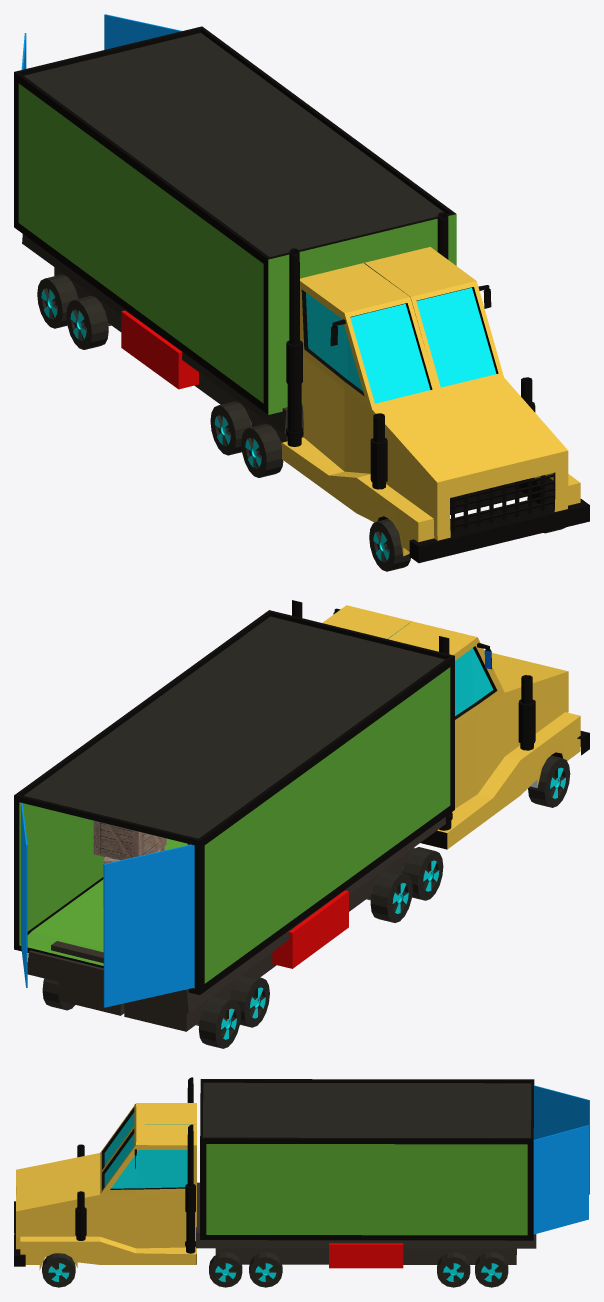
The model's file is Truck4.fbx.
3 renders of one model, top to bottom at view 1: azimuth 30°, elevation 25°; view 2: azimuth 150°, elevation 25°; view 3: azimuth 270°, elevation 25°, orthographic. The views are drawn at different scales.
Visible parts, largest first — view 1: TruckRare_2.002, Truck Type 6, Plane.016, Wheel_Rare1.L.030, Wheel_Rare1.L.028, Wheel_Rare1.L.029, Wheel_Rare1.L.031, Wheel_Rare1.L.027, LuggageDoor/L.002; view 2: TruckRare_2.002, Truck Type 6, LuggageDoor.R.002, Luggage1.003, Wheel_Rare1.L.029, Wheel_Rare1.L.031, Wheel_Rare1.L.028, Wheel_Rare1.L.030, Wheel_Rare1.L.027, LuggageDoor/L.002; view 3: TruckRare_2.002, Truck Type 6, LuggageDoor/L.002, LuggageDoor.R.002, Wheel_Rare1.L.025, Wheel_Rare1.L.023, Wheel_Rare1.L.026, Wheel_Rare1.L.024, Wheel_Rare1.L.042.
Boxes of the visible parts, x1,y1,x2,y2 form: TruckRare_2.002: (14, 26, 456, 414); Truck Type 6: (22, 212, 589, 563); Plane.016: (450, 472, 555, 533); Wheel_Rare1.L.030: (66, 296, 108, 349); Wheel_Rare1.L.028: (241, 424, 283, 477); Wheel_Rare1.L.029: (210, 401, 251, 455); Wheel_Rare1.L.031: (37, 274, 78, 328); Wheel_Rare1.L.027: (369, 518, 410, 571); LuggageDoor/L.002: (104, 14, 181, 49); TruckRare_2.002: (14, 610, 454, 994); Truck Type 6: (27, 600, 589, 1031); LuggageDoor.R.002: (103, 844, 194, 1007); Luggage1.003: (93, 820, 166, 860); Wheel_Rare1.L.029: (370, 869, 412, 922); Wheel_Rare1.L.031: (198, 995, 240, 1048); Wheel_Rare1.L.028: (402, 847, 443, 900); Wheel_Rare1.L.030: (229, 974, 269, 1027); Wheel_Rare1.L.027: (528, 755, 570, 807); LuggageDoor/L.002: (21, 802, 27, 987); TruckRare_2.002: (200, 1079, 534, 1240); Truck Type 6: (14, 1077, 536, 1270); LuggageDoor/L.002: (533, 1125, 588, 1234); LuggageDoor.R.002: (533, 1085, 589, 1194); Wheel_Rare1.L.025: (437, 1252, 470, 1287); Wheel_Rare1.L.023: (209, 1252, 242, 1287); Wheel_Rare1.L.026: (475, 1252, 508, 1287); Wheel_Rare1.L.024: (249, 1252, 282, 1287); Wheel_Rare1.L.042: (42, 1253, 75, 1287).
Size of the model in its own units: 976 by 1196 by 3944.
